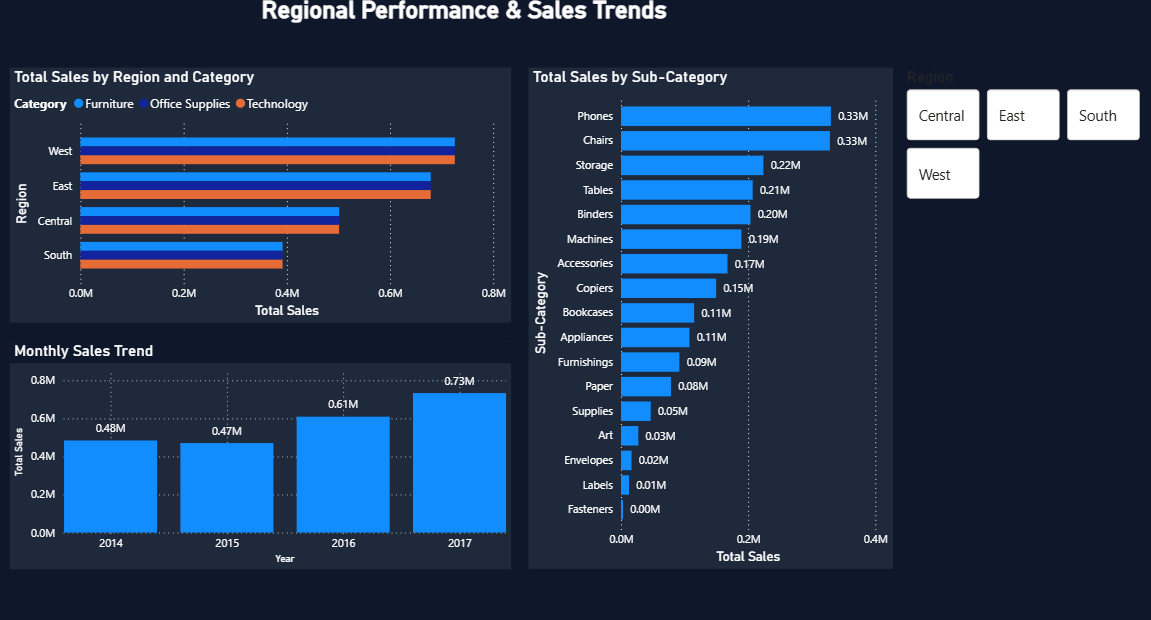

What the dashboard file says about the page in this screenshot:
{"tool":"powerbi","page":{"name":"Regional Performance","canvas":[1280,720],"ordinal":1},"visuals":[{"type":"textbox","title":"Regional Performance & Sales Trends","box":[292.3,0,595,40],"z":0},{"type":"clusteredBarChart","fields":{"Category":["Forecast_vs_Actual.Region"],"Y":["Forecast_vs_Actual.Total Sales"],"Series":["Forecast_vs_Actual.Category"]},"box":[20,80,550,280],"z":1000},{"type":"clusteredColumnChart","title":"Monthly Sales Trend","fields":{"Y":["Forecast_vs_Actual.Total Sales"],"Category":["SampleSuperstore.Order Date.Variation.Date Hierarchy.Year","SampleSuperstore.Order Date.Variation.Date Hierarchy.Quarter","SampleSuperstore.Order Date.Variation.Date Hierarchy.Month","SampleSuperstore.Order Date.Variation.Date Hierarchy.Day"]},"box":[20,380,550,250],"z":2000},{"type":"clusteredBarChart","fields":{"Category":["SampleSuperstore.Sub-Category"],"Y":["Forecast_vs_Actual.Total Sales"]},"box":[590,80,400,550],"z":3000},{"type":"advancedSlicerVisual","fields":{"Values":["SampleSuperstore.Region"]},"box":[1000.3,79.6,267.6,150.9],"z":4000}]}

Visuals, with their boxes on the page's 1280x720 design canvas (x1, y1, x2, y2). These are canvas units, not pixel positions in the 1151x620 screenshot, which may show the page scaled, cropped or inside an application window:
"Regional Performance & Sales Trends" textbox: select_region(292, 0, 887, 40)
clusteredBarChart - Forecast_vs_Actual.Region x Forecast_vs_Actual.Total Sales: select_region(20, 80, 570, 360)
"Monthly Sales Trend" clusteredColumnChart: select_region(20, 380, 570, 630)
clusteredBarChart - SampleSuperstore.Sub-Category x Forecast_vs_Actual.Total Sales: select_region(590, 80, 990, 630)
advancedSlicerVisual - SampleSuperstore.Region: select_region(1000, 80, 1268, 230)
